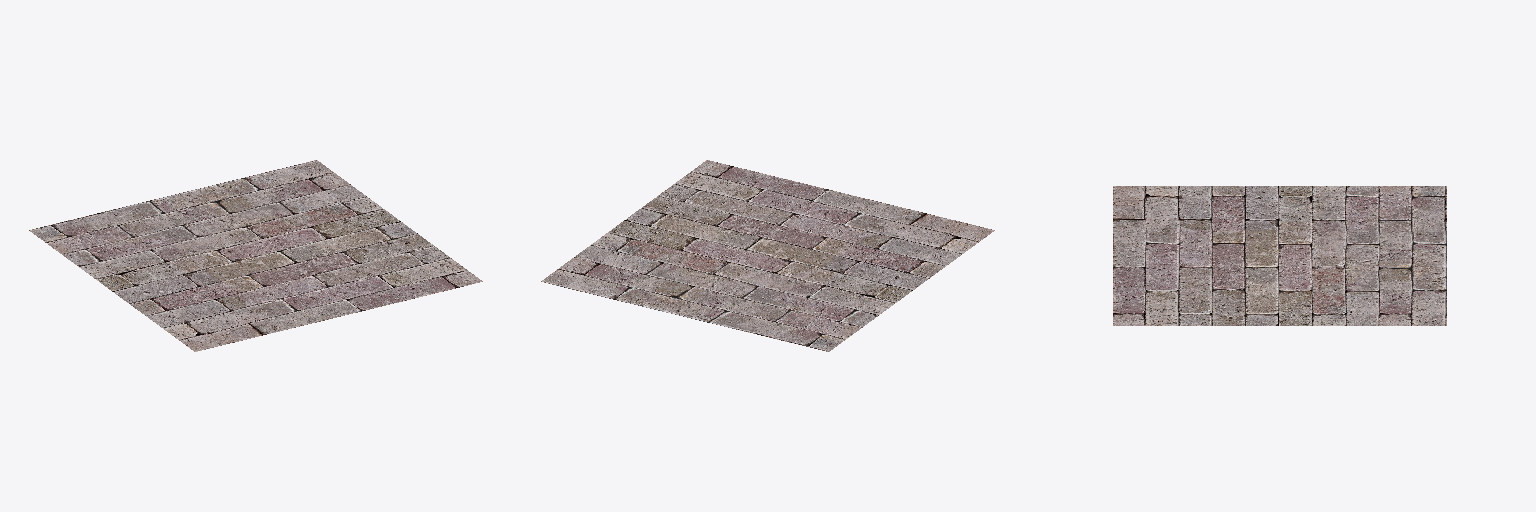
3 views of the same model, side by side, from view 1: azimuth 30°, elevation 25°; view 2: azimuth 150°, elevation 25°; view 3: azimuth 270°, elevation 25° (orthographic).
Visible parts, largest first — view 1: Plane; view 2: Plane; view 3: Plane.
Part boxes in pixels (bbox=[...]): Plane: bbox=[29, 160, 482, 351]; Plane: bbox=[541, 160, 994, 351]; Plane: bbox=[1113, 186, 1446, 325].
Size of the model in its own units: 2 by 0 by 2.
1 materials, 1 textured.